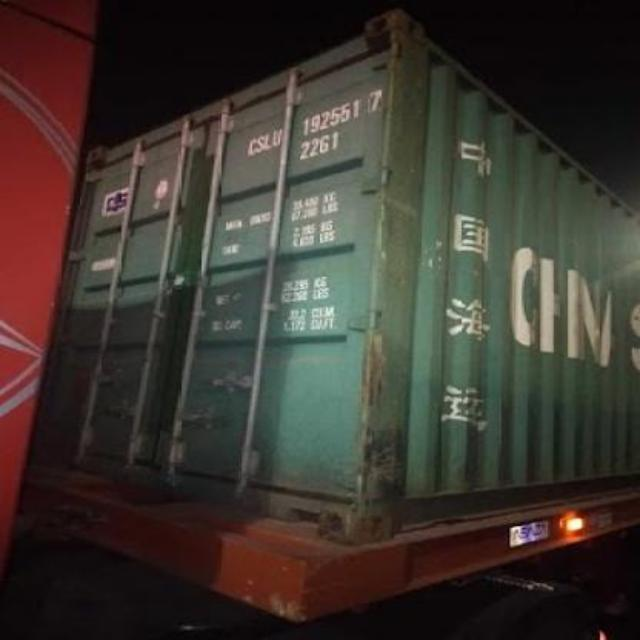1: (350, 95, 360, 122), (300, 114, 310, 138)
2: (320, 110, 330, 132)
5: (326, 95, 339, 128), (340, 97, 350, 127)
7: (366, 87, 384, 113)
9: (308, 112, 320, 134)
C: (244, 134, 256, 156)
L: (264, 129, 272, 153)
S: (256, 132, 268, 154)
U: (272, 126, 282, 154)
